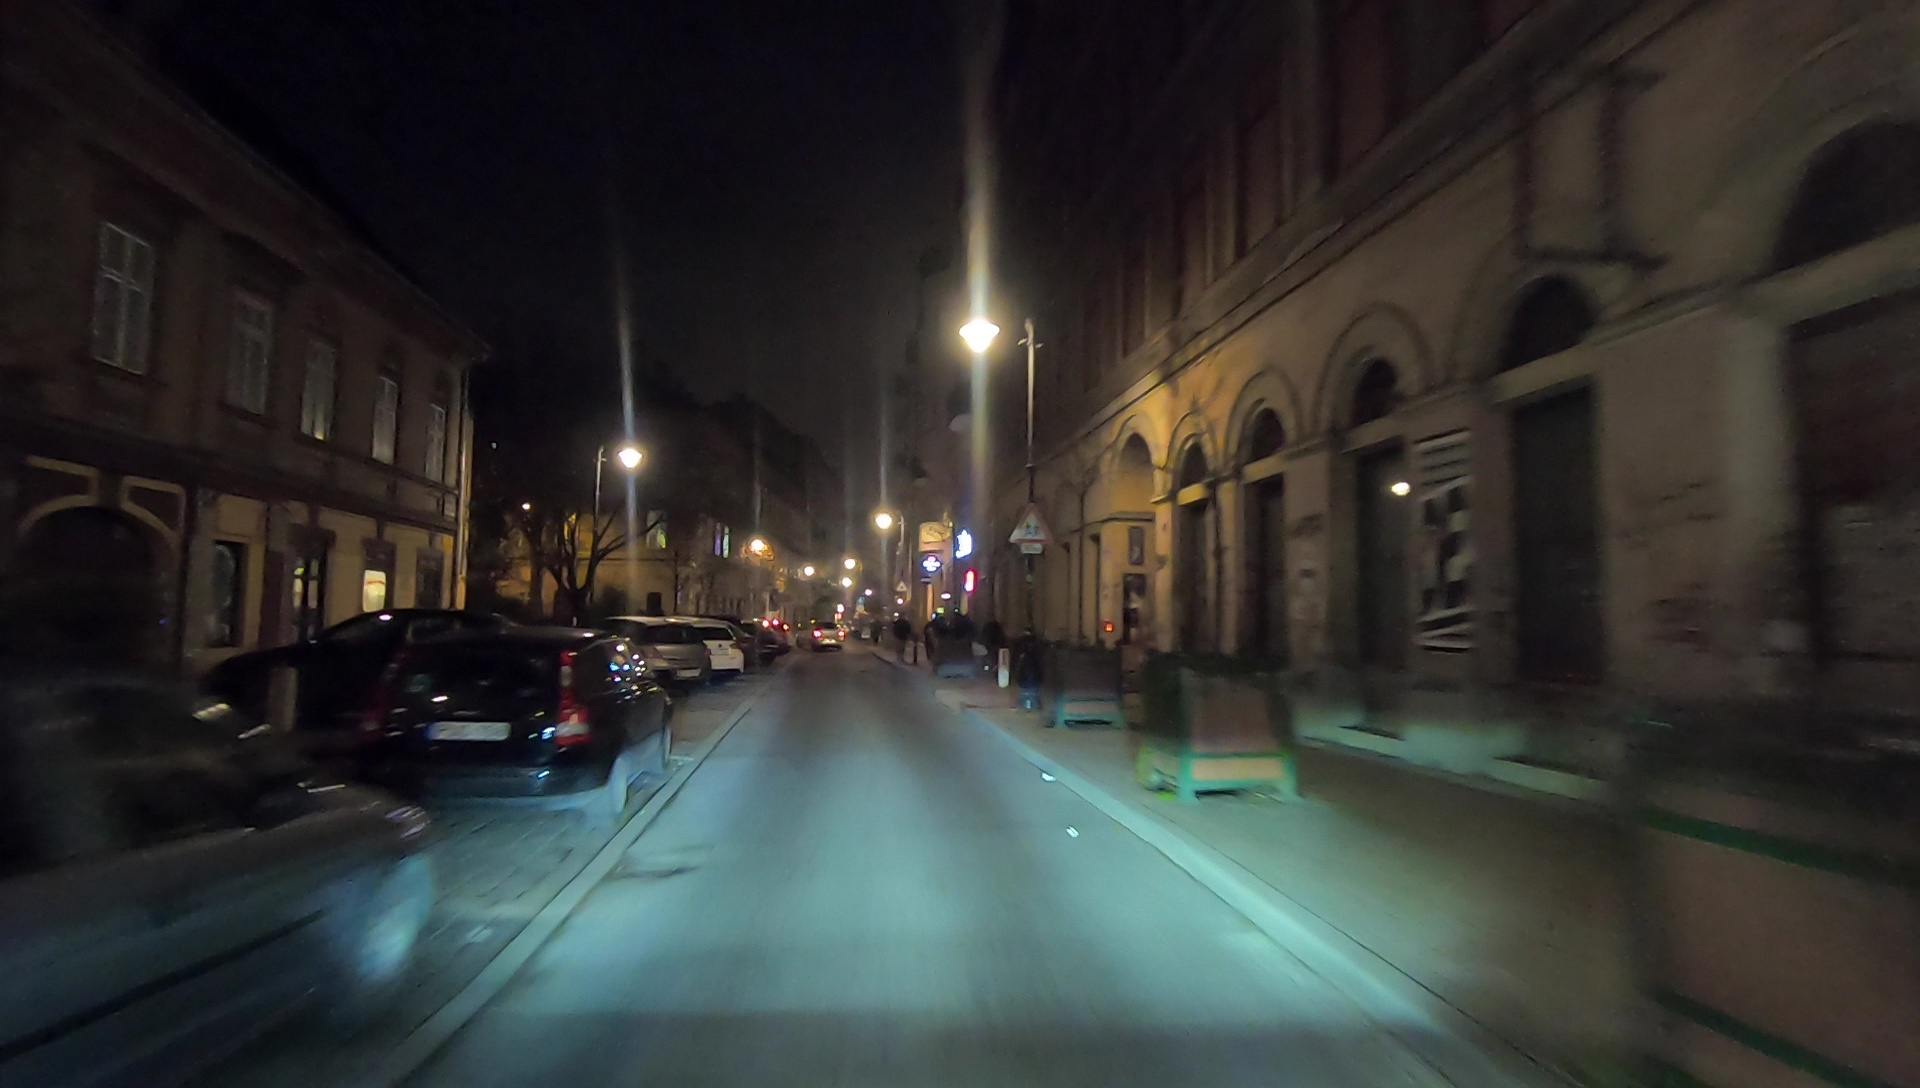person: (1015, 629, 1037, 704), (985, 618, 1005, 672), (893, 612, 908, 664)
